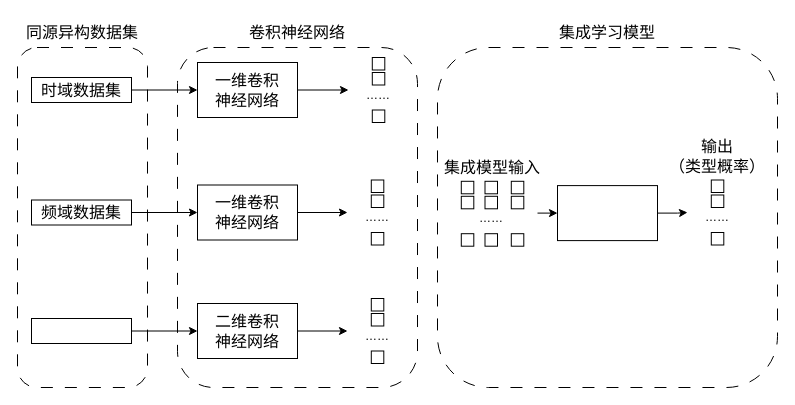
Some shapes in this 795 by 405 pixel diagram are drawn without their labels. The centre of each missing label's shape, as x and y in pixels:
时频域数据集: the point at 81,331
逻辑回归: the point at 607,213
